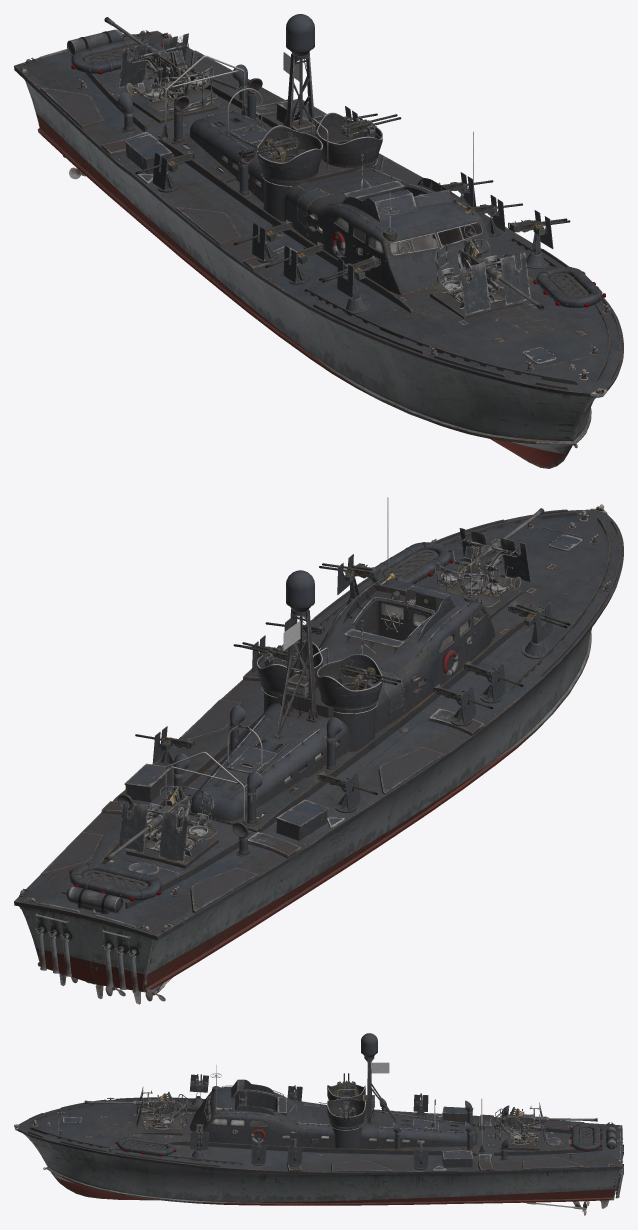
The model's file is boat.pt59.glb.
3 views of the same model, one above another, from view 1: azimuth 30°, elevation 25°; view 2: azimuth 150°, elevation 25°; view 3: azimuth 270°, elevation 25° (orthographic). The views are drawn at different scales.
Visible parts, largest first — view 1: Object_36, Object_21, Object_5, Object_12, Object_13, Object_6, Object_24, Object_19, Object_25, Object_37, Object_35, Object_28 (+5 smaller); view 2: Object_36, Object_21, Object_5, Object_12, Object_13, Object_6, Object_19, Object_25, Object_24, Object_37, Object_35, Object_41 (+7 smaller); view 3: Object_36, Object_5, Object_21, Object_6, Object_12, Object_13, Object_19, Object_35, Object_37, Object_24, Object_25, Object_28 (+3 smaller).
Part boxes in pixels (left/top/right/bottom): Object_36: left=14, top=31, right=623, bottom=397; Object_21: left=71, top=37, right=605, bottom=318; Object_5: left=26, top=81, right=593, bottom=454; Object_12: left=181, top=111, right=482, bottom=261; Object_13: left=67, top=14, right=556, bottom=364; Object_6: left=36, top=113, right=567, bottom=468; Object_24: left=432, top=239, right=530, bottom=314; Object_19: left=19, top=30, right=611, bottom=396; Object_25: left=118, top=33, right=217, bottom=113; Object_37: left=152, top=106, right=505, bottom=284; Object_35: left=104, top=17, right=544, bottom=310; Object_28: left=337, top=210, right=553, bottom=299; Object_36: left=14, top=509, right=623, bottom=940; Object_21: left=69, top=542, right=524, bottom=914; Object_5: left=22, top=627, right=592, bottom=974; Object_12: left=185, top=578, right=488, bottom=818; Object_13: left=61, top=534, right=582, bottom=914; Object_6: left=38, top=714, right=552, bottom=991; Object_19: left=19, top=504, right=611, bottom=932; Object_25: left=118, top=785, right=217, bottom=863; Object_24: left=434, top=528, right=530, bottom=609; Object_37: left=152, top=615, right=505, bottom=813; Object_35: left=104, top=508, right=544, bottom=861; Object_41: left=35, top=913, right=139, bottom=993; Object_36: left=16, top=1097, right=622, bottom=1174; Object_5: left=24, top=1134, right=620, bottom=1202; Object_21: left=115, top=1087, right=602, bottom=1167; Object_6: left=55, top=1178, right=614, bottom=1205; Object_12: left=204, top=1079, right=467, bottom=1150; Object_13: left=63, top=1033, right=616, bottom=1163; Object_19: left=14, top=1089, right=620, bottom=1166; Object_35: left=84, top=1092, right=597, bottom=1129; Object_37: left=251, top=1086, right=428, bottom=1170; Object_24: left=136, top=1086, right=187, bottom=1129; Object_25: left=495, top=1102, right=545, bottom=1145; Object_28: left=189, top=1074, right=208, bottom=1160.
Bounding box in the file's own units: 6.83 × 7.3 × 23.66.
Materials: 29 (29 with a texture image).
